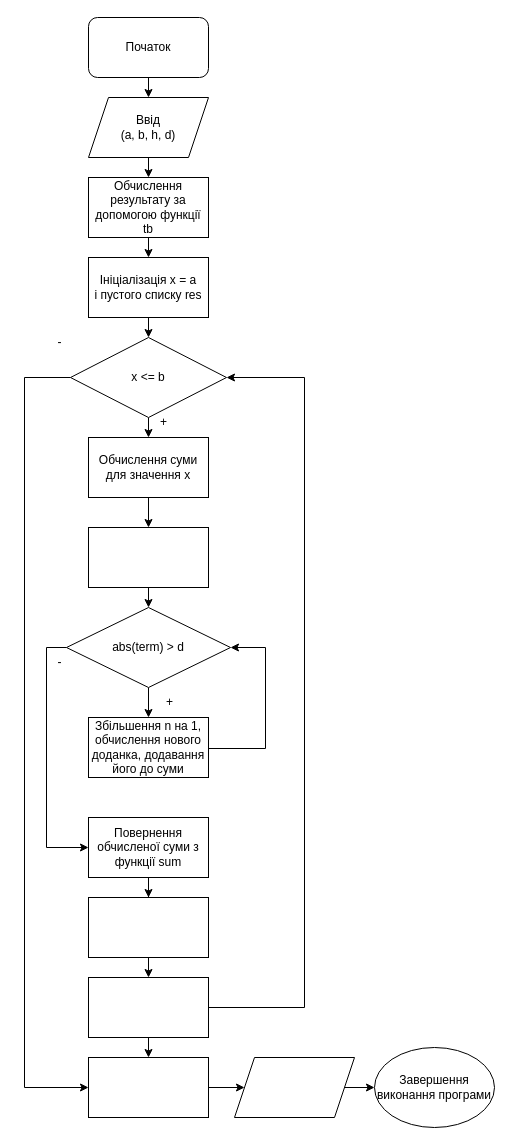
The diagram is 512 pixels wide and 1145 high, and some of its shapes have lost their labels. The shapes that lost their labels are listed below. From the top down, each one's box as (x1, y1, x2, y2) in pixels, then its label:
(88, 526, 208, 588): Ініціфлізація n = 1, term = (x-1)^n / (n*x^n), sum = term
(88, 896, 208, 958): Додаваня результату (x, y) до списку res
(88, 976, 208, 1038): Збільшити x на h
(88, 1056, 208, 1118): Повернення результату в список res
(234, 1056, 354, 1118): Виведення значень (x, y)
